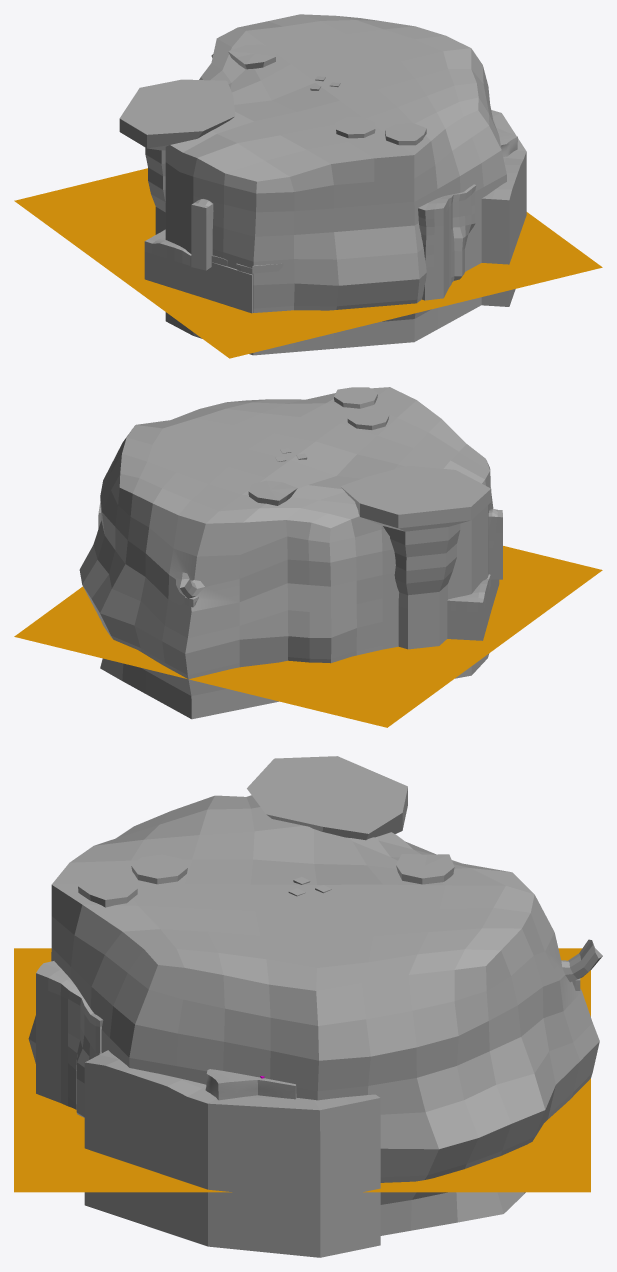
Rendered from env_level4_finalBossV5.fbx.
3 views of the same model, one above another, from view 1: azimuth 30°, elevation 25°; view 2: azimuth 150°, elevation 25°; view 3: azimuth 270°, elevation 25° (orthographic). The views are drawn at different scales.
Parts seen in each view (by area): view 1: pCylinder4, pPlane1, pCylinder3, pCube24, pCube33, pCube15, pCube5, pCylinder1, pCylinder5, polySurface2; view 2: pCylinder4, pPlane1, pCylinder3, pCube15, pCube5, pCylinder1, pCylinder5, polySurface2; view 3: pCylinder4, pCube24, pPlane1, pCylinder3, pCube33, pCube27, pCylinder1, pCylinder5, polySurface2.
Boxes of the visible parts, x1,y1,x2,y2 form: pCylinder4: [165, 14, 506, 355]; pPlane1: [14, 168, 602, 358]; pCylinder3: [119, 79, 235, 234]; pCube24: [481, 110, 526, 306]; pCube33: [418, 184, 476, 300]; pCube15: [144, 229, 252, 313]; pCube5: [191, 199, 213, 270]; pCylinder1: [228, 44, 275, 69]; pCylinder5: [385, 123, 426, 145]; polySurface2: [335, 117, 375, 138]; pCylinder4: [79, 387, 493, 719]; pPlane1: [14, 546, 602, 727]; pCylinder3: [341, 465, 491, 649]; pCube15: [447, 574, 499, 640]; pCube5: [488, 509, 502, 579]; pCylinder1: [248, 480, 297, 505]; pCylinder5: [334, 387, 377, 408]; polySurface2: [347, 408, 389, 429]; pCylinder4: [28, 795, 602, 1235]; pCube24: [84, 1050, 380, 1257]; pPlane1: [14, 948, 590, 1192]; pCylinder3: [247, 756, 407, 840]; pCube33: [36, 961, 103, 1117]; pCube27: [205, 1069, 296, 1100]; pCylinder1: [396, 854, 454, 884]; pCylinder5: [78, 874, 137, 907]; polySurface2: [131, 854, 187, 884].
Size of the model in its own units: 22777 by 10786 by 22457.
